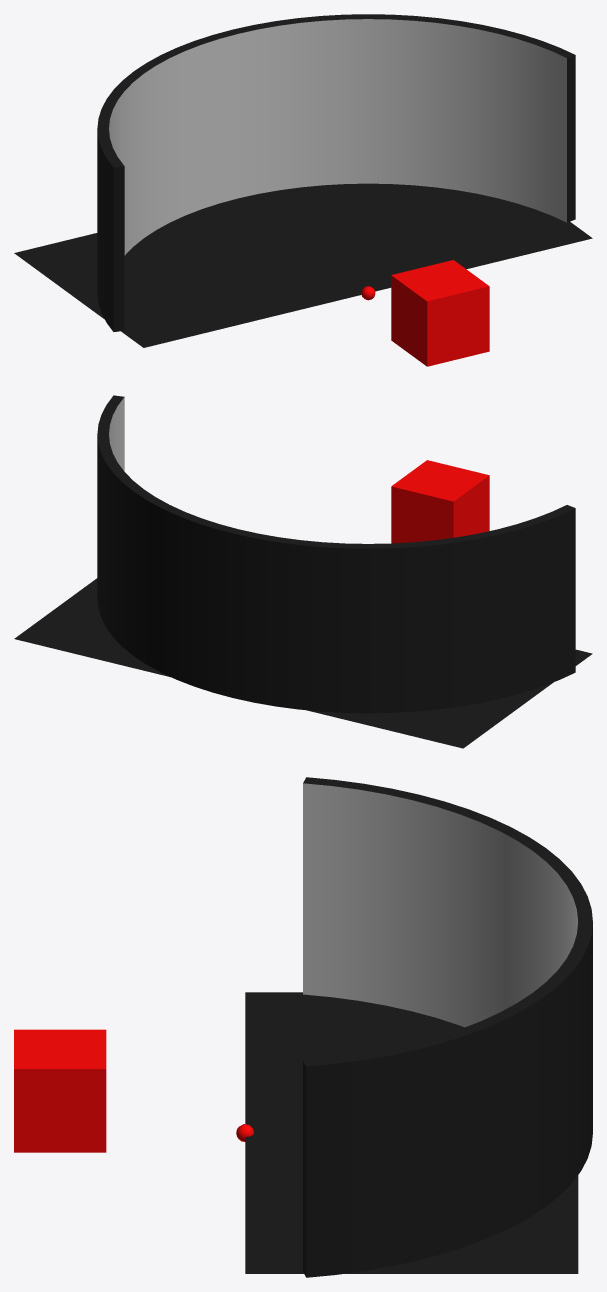
File: RWS scherm.fbx
3 views of the same model, one above another, from view 1: azimuth 30°, elevation 25°; view 2: azimuth 150°, elevation 25°; view 3: azimuth 270°, elevation 25° (orthographic). The views are drawn at different scales.
Parts seen in each view (by area): view 1: Screen, Floor, Wall, Scale; view 2: Wall, Floor, Scale, Screen; view 3: Wall, Screen, Floor, Scale.
Boxes of the visible parts, box(x1,y1,x2,y2) form: Screen: box(109, 19, 566, 255); Floor: box(14, 183, 592, 347); Wall: box(97, 14, 575, 331); Scale: box(391, 260, 489, 366); Wall: box(97, 395, 575, 713); Floor: box(14, 578, 592, 748); Scale: box(391, 460, 489, 543); Screen: box(109, 397, 124, 471); Wall: box(303, 777, 592, 1277); Screen: box(303, 783, 577, 1027); Floor: box(245, 992, 578, 1273); Scale: box(14, 1029, 106, 1152).
Size of the model in its own units: 740 by 262 by 626.
